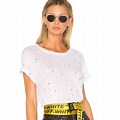person: (41, 1, 73, 45)
